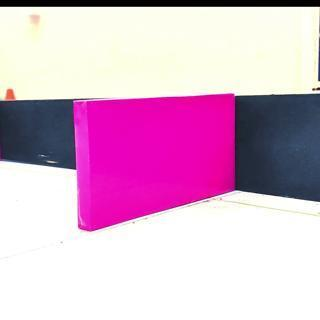xparking: (74, 100, 235, 208)
